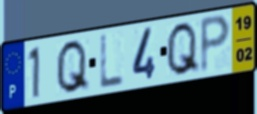1: (26, 44, 41, 101)
4: (130, 24, 160, 84)
L: (98, 32, 126, 91)
P: (199, 13, 233, 76)
Q: (54, 37, 91, 96), (164, 20, 201, 78)
